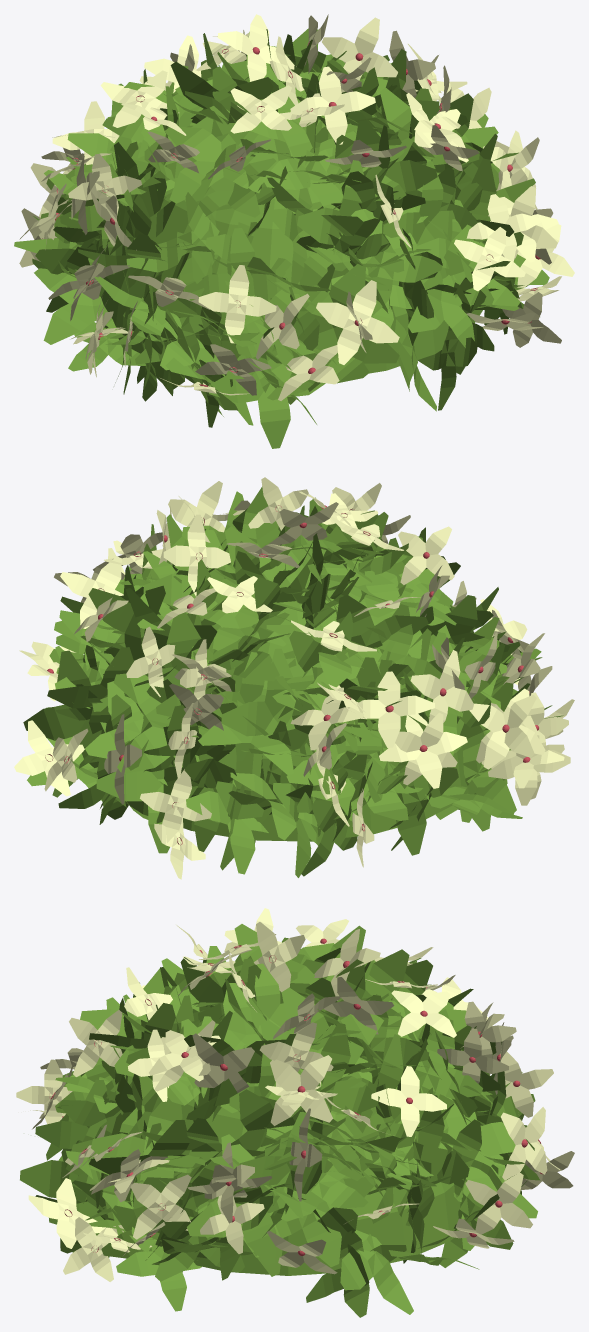
File: Bush.glb
3 renders of one model, top to bottom at view 1: azimuth 30°, elevation 25°; view 2: azimuth 150°, elevation 25°; view 3: azimuth 270°, elevation 25°, orthographic.
Parts seen in each view (by area): view 1: Cylinder, Leaf.439, Flower.132, Leaf.435, Leaf.307, Leaf.399, Leaf.484, Leaf.464, Flower.083, Leaf.391, Flower.148, Leaf.258 (+104 smaller); view 2: Cylinder, Leaf.360, Flower.144, Leaf.467, Flower.140, Leaf.301, Leaf.365, Leaf.426, Leaf.422, Leaf.378, Flower.093, Flower.149 (+107 smaller); view 3: Cylinder, Flower.147, Leaf.468, Leaf.378, Leaf.287, Leaf.496, Flower.117, Flower.121, Leaf.389, Flower.081, Leaf.327, Flower.100 (+96 smaller).
Boxes of the visible parts, box(x1,y1,x2,y2) form: Cylinder: box(101, 123, 482, 373); Leaf.439: box(164, 126, 275, 203); Flower.132: box(316, 280, 399, 364); Leaf.435: box(263, 112, 343, 210); Leaf.307: box(270, 264, 399, 391); Leaf.399: box(208, 356, 325, 448); Leaf.484: box(34, 268, 117, 344); Leaf.464: box(383, 161, 455, 253); Flower.083: box(198, 265, 276, 343); Leaf.391: box(407, 252, 476, 353); Flower.148: box(290, 66, 375, 144); Leaf.258: box(184, 228, 285, 298); Cylinder: box(95, 567, 468, 841); Leaf.360: box(221, 648, 293, 781); Flower.144: box(357, 671, 434, 747); Leaf.467: box(23, 650, 101, 767); Flower.140: box(379, 714, 467, 788); Leaf.301: box(186, 780, 268, 874); Leaf.365: box(336, 594, 428, 648); Leaf.426: box(396, 761, 458, 855); Leaf.422: box(117, 675, 199, 773); Leaf.378: box(47, 647, 133, 733); Flower.093: box(410, 650, 473, 722); Flower.149: box(163, 514, 230, 596); Cylinder: box(150, 1029, 465, 1275); Flower.147: box(270, 1055, 332, 1125); Leaf.468: box(340, 1230, 413, 1314); Leaf.378: box(406, 1094, 469, 1226); Leaf.287: box(414, 1019, 482, 1099); Leaf.496: box(275, 1176, 375, 1266); Flower.117: box(130, 1174, 191, 1239); Flower.121: box(465, 1172, 532, 1234); Leaf.389: box(439, 1096, 515, 1191); Flower.081: box(501, 1107, 547, 1180); Leaf.327: box(306, 1230, 406, 1317); Flower.100: box(371, 1066, 446, 1136).
Size of the model in its own units: 1.8 by 1.1 by 1.8.
